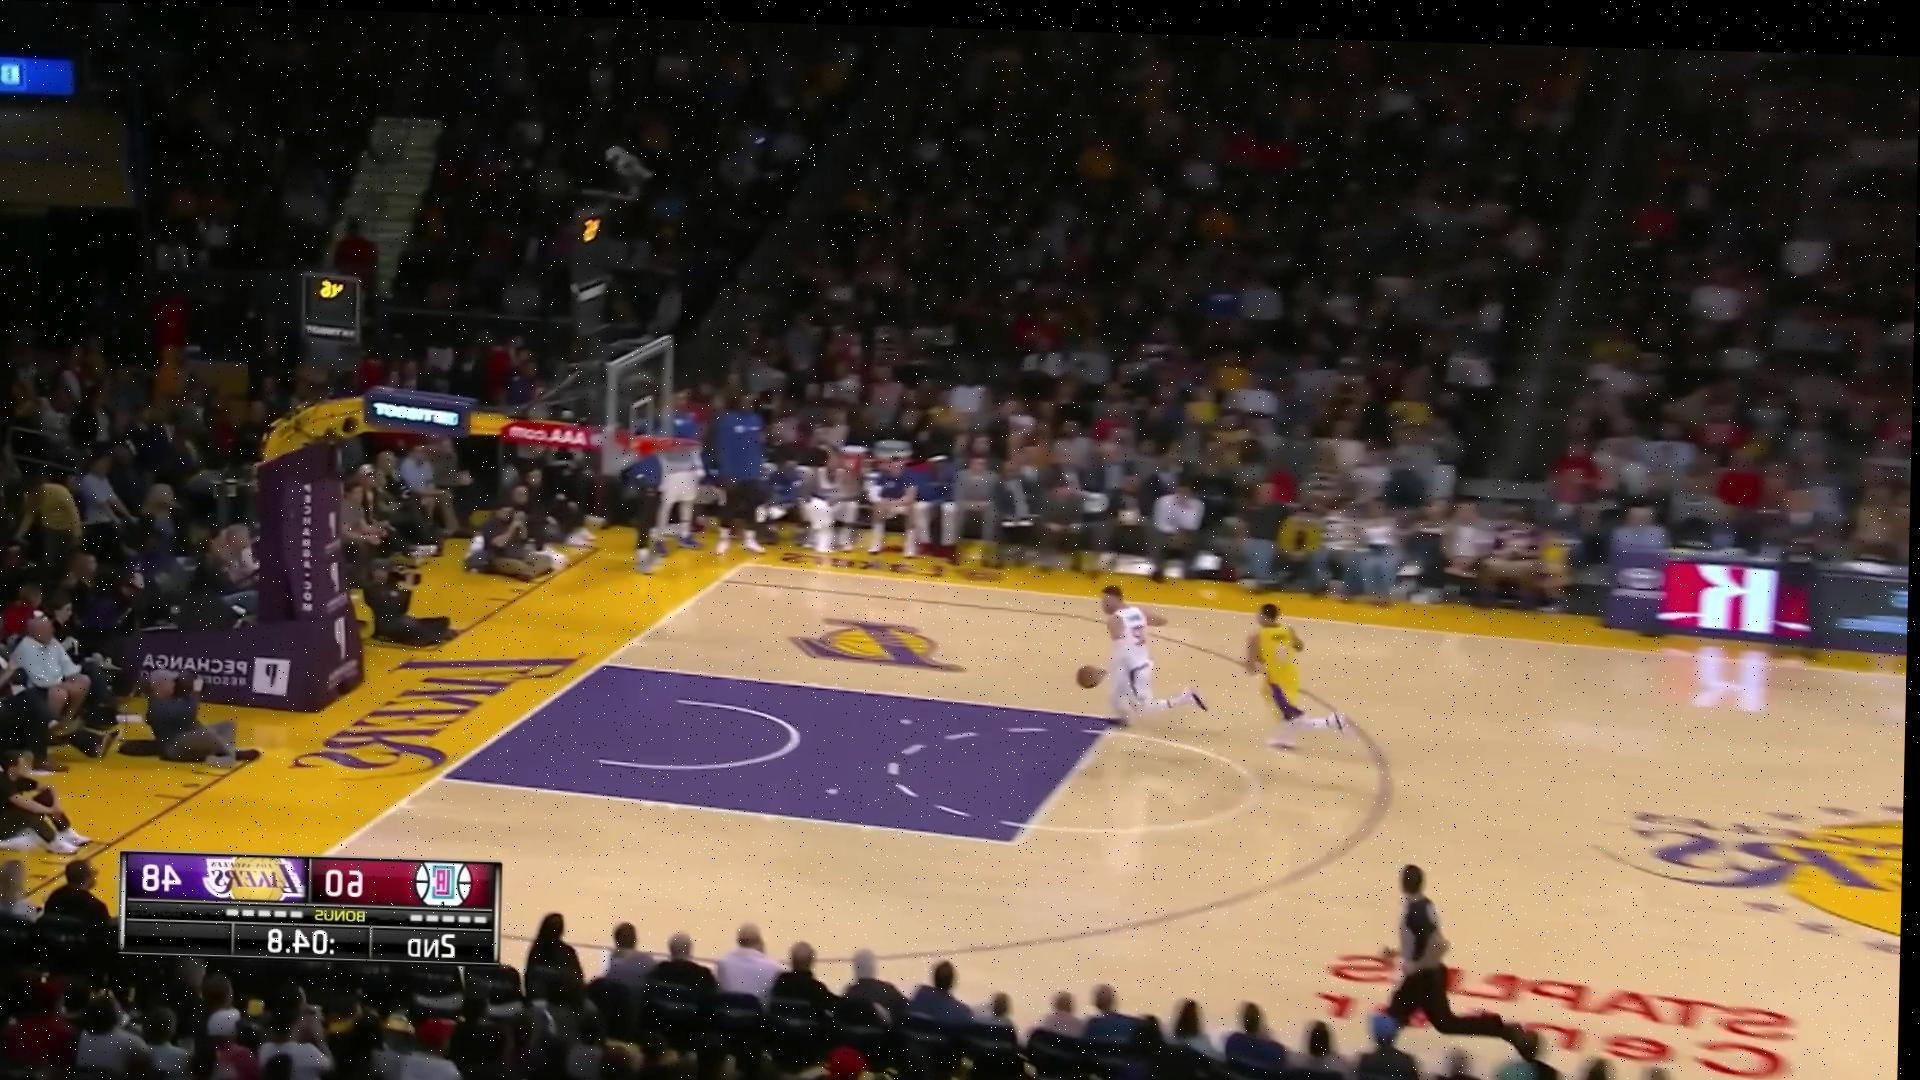no_foul: (1064, 547, 1361, 746)
